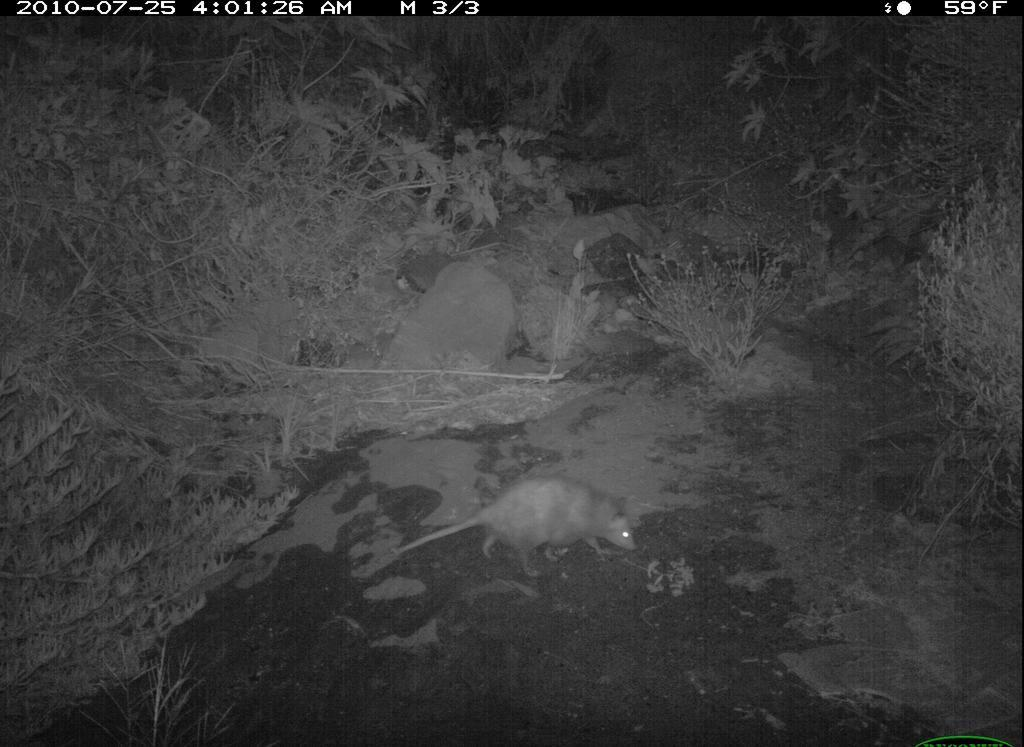opossum: (378, 468, 655, 582)
